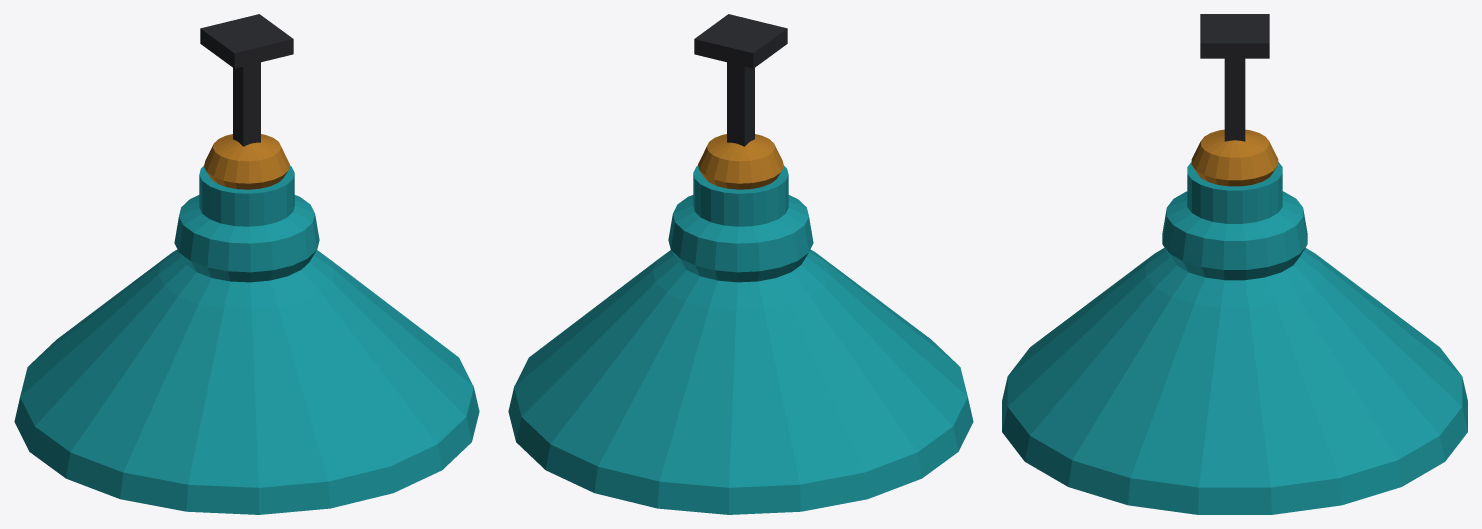
The model's file is SM_Wall_Lamp_Pendant_01.fbx.
3 renders of one model, left to right at view 1: azimuth 30°, elevation 25°; view 2: azimuth 150°, elevation 25°; view 3: azimuth 270°, elevation 25°, orthographic.
Visible parts, largest first — view 1: SM_Wall_Lamp_Pendant_01; view 2: SM_Wall_Lamp_Pendant_01; view 3: SM_Wall_Lamp_Pendant_01.
Part boxes in pixels (box(x1,y1,x2,y2)): SM_Wall_Lamp_Pendant_01: box(14, 14, 479, 514); SM_Wall_Lamp_Pendant_01: box(508, 14, 973, 514); SM_Wall_Lamp_Pendant_01: box(1002, 14, 1467, 514).
Bounding box in the file's own units: 0.405 × 0.378 × 0.405.
Materials: 1 (1 with a texture image).
